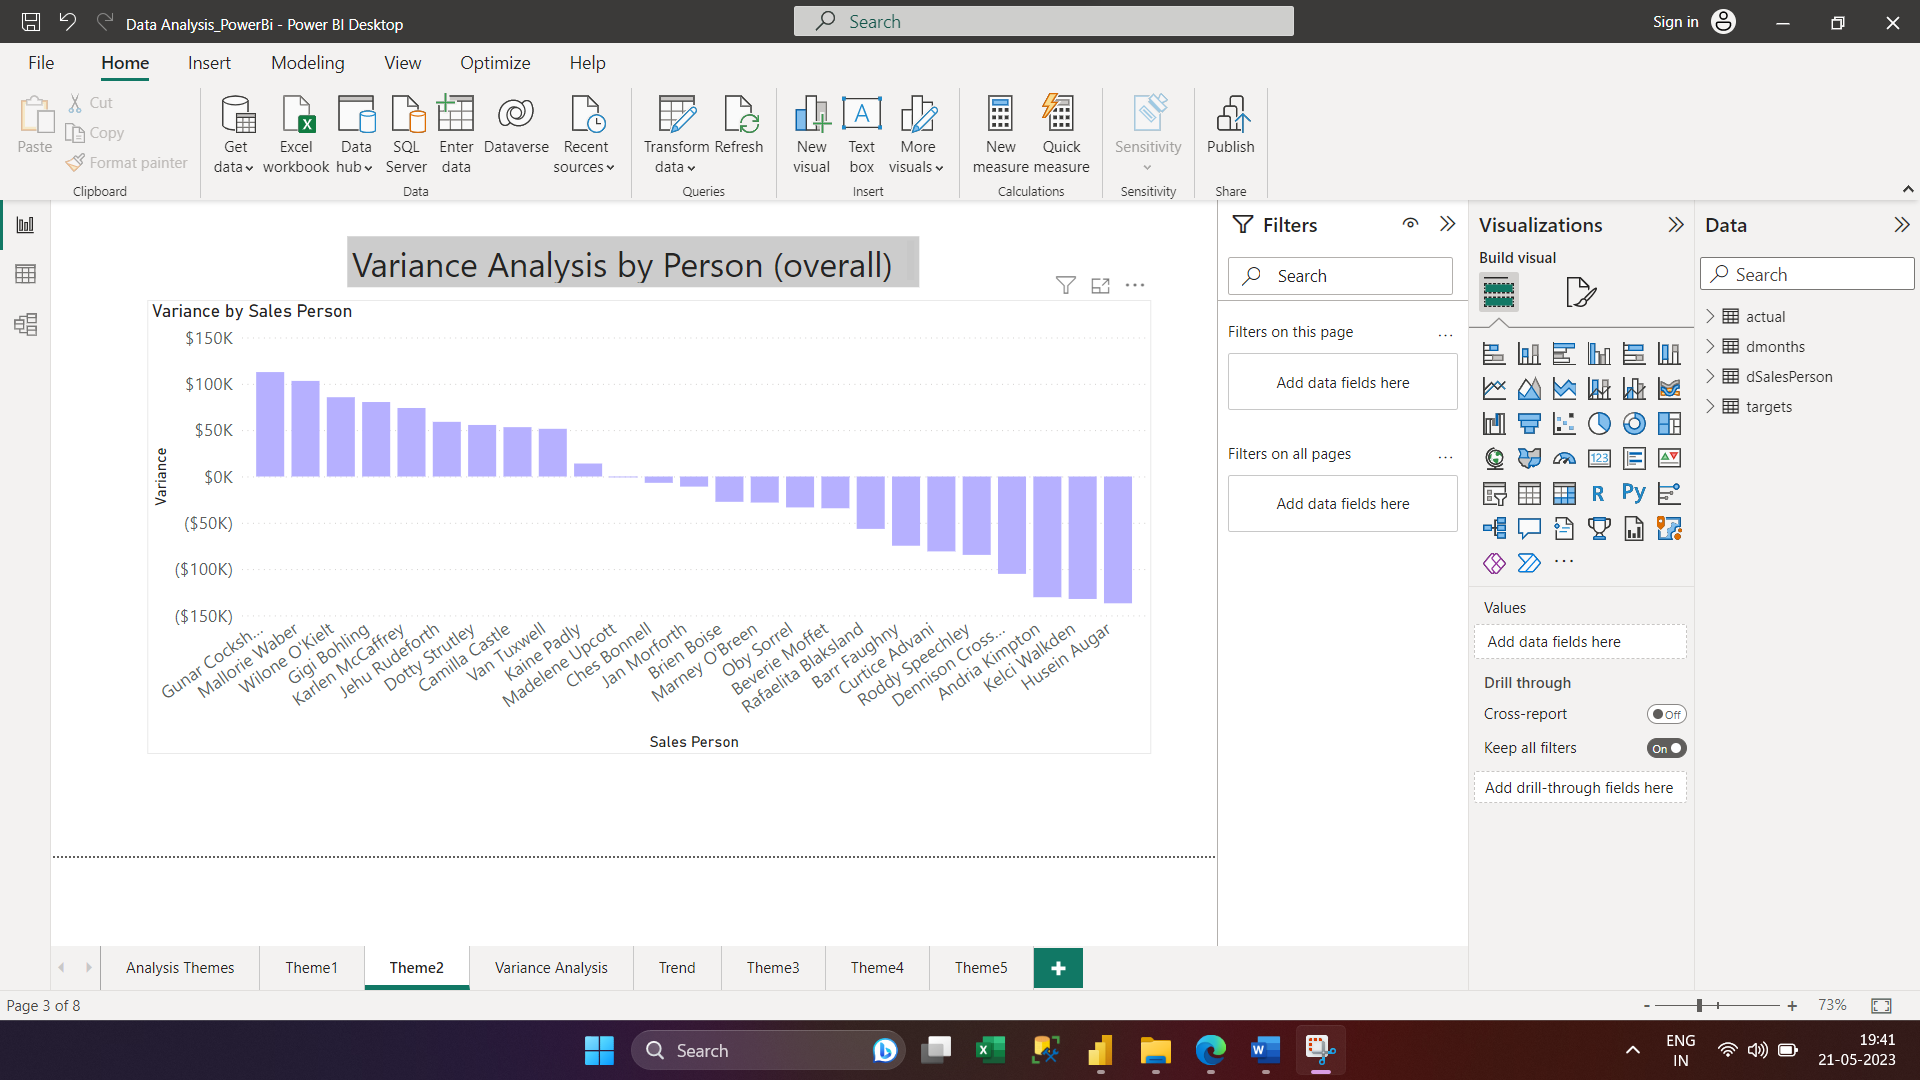

Layout of this report page (visuals, bound fields, positions):
{"tool":"powerbi","page":{"name":"Theme2","canvas":[1280,720],"ordinal":2},"visuals":[{"type":"clusteredColumnChart","fields":{"Y":["actual.Variance"],"Category":["dSalesPerson.Sales Person"]},"box":[105.8,109.9,1101.5,498.5],"z":0},{"type":"textbox","box":[325.5,39.8,627.6,56.3],"z":1000}]}

Visuals, with their boxes on the page's 1280x720 design canvas (x1, y1, x2, y2). These are canvas units, not pixel positions in the 1920x1080 screenshot, which may show the page scaled, cropped or inside an application window:
clusteredColumnChart - actual.Variance x dSalesPerson.Sales Person: (106, 110, 1207, 608)
textbox: (326, 40, 953, 96)
